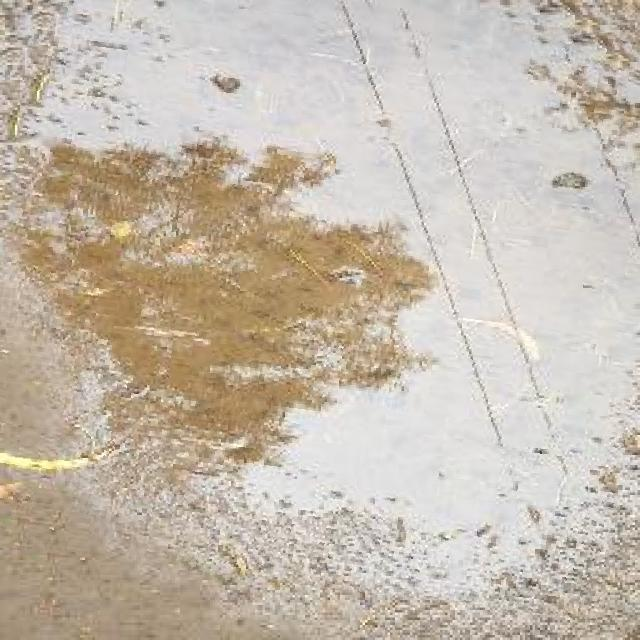puddle: (1, 1, 640, 603)
